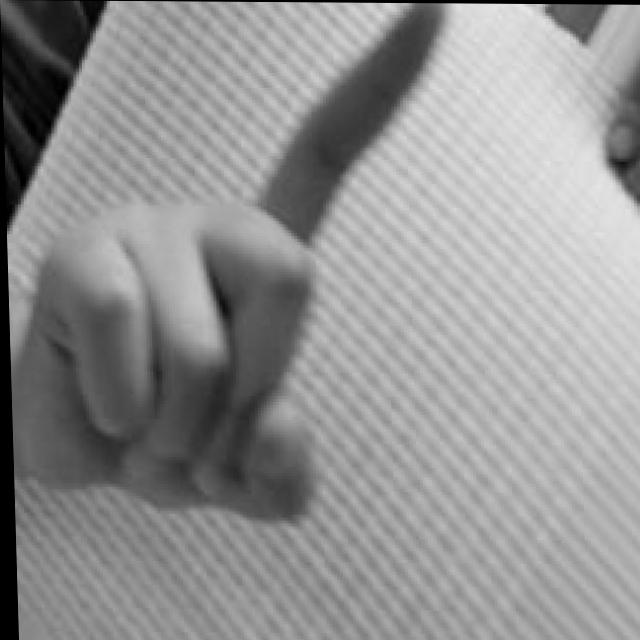I: (3, 0, 467, 527)
